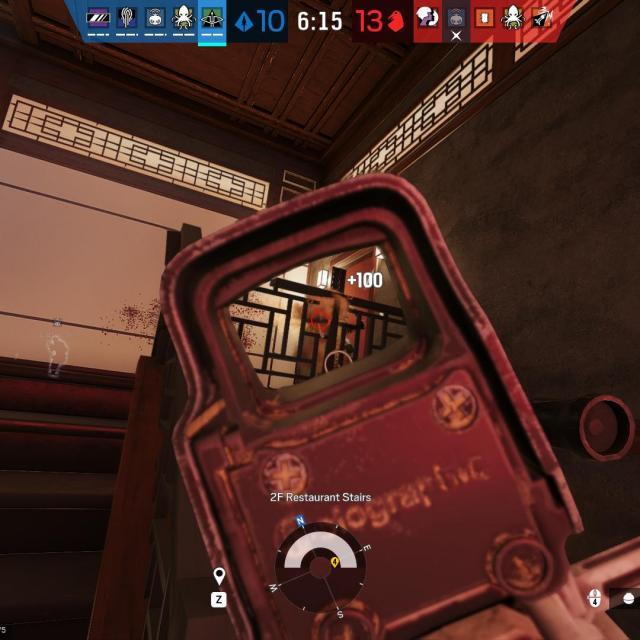Character: (312, 284, 366, 370)
Friend_label: (38, 316, 75, 339)
